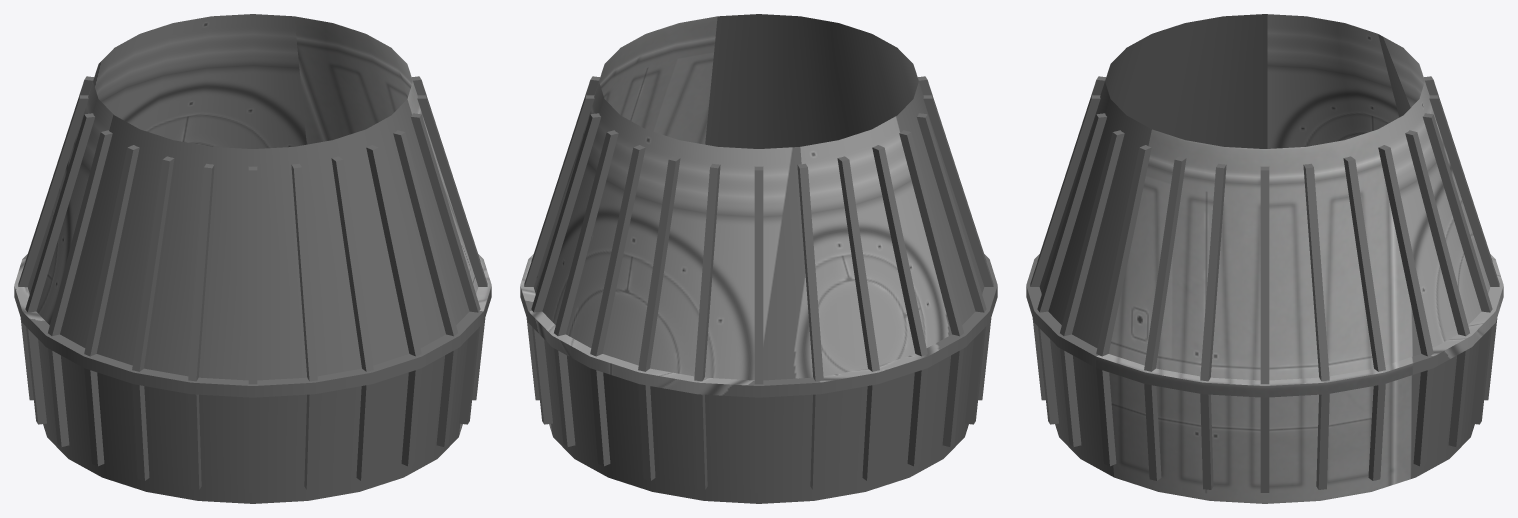
The model's file is Hamal_Control_1.obj.
The picture shows the model from 3 angles, left to right: view 1: azimuth 30°, elevation 25°; view 2: azimuth 150°, elevation 25°; view 3: azimuth 270°, elevation 25°; orthographic projection.
Visible parts, largest first — view 1: Hamal_Control_1; view 2: Hamal_Control_1; view 3: Hamal_Control_1.
Part boxes in pixels (<box>): Hamal_Control_1: <box>14,14,491,503</box>; Hamal_Control_1: <box>520,14,997,503</box>; Hamal_Control_1: <box>1026,14,1503,503</box>.
Size of the model in its own units: 1.4 by 1.08 by 1.4.
